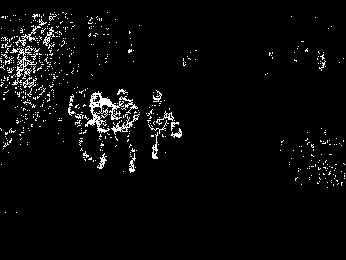person: (150, 90, 182, 161), (112, 89, 139, 172), (90, 91, 109, 168), (69, 94, 90, 161)
